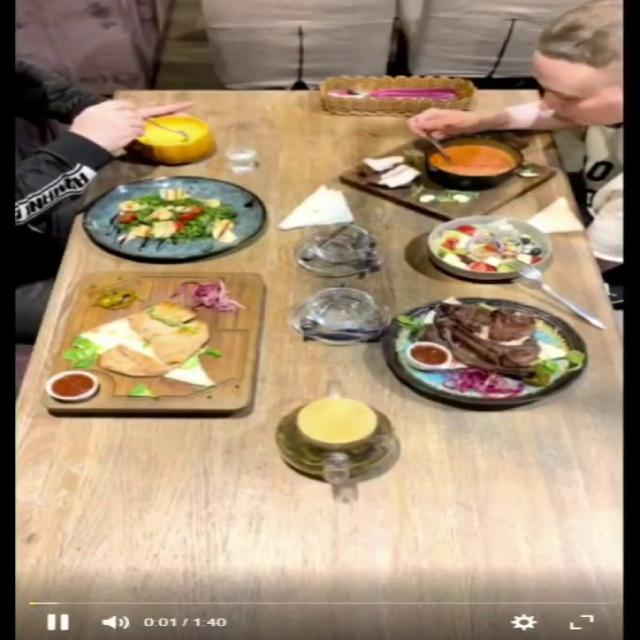alcohol: (232, 139, 281, 183)
meat: (378, 296, 590, 406)
salat: (79, 176, 265, 260), (426, 213, 552, 279)
soup: (333, 132, 556, 222), (131, 114, 214, 163)
tea: (273, 396, 395, 480)
